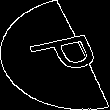P_E: (11, 30, 99, 80)
